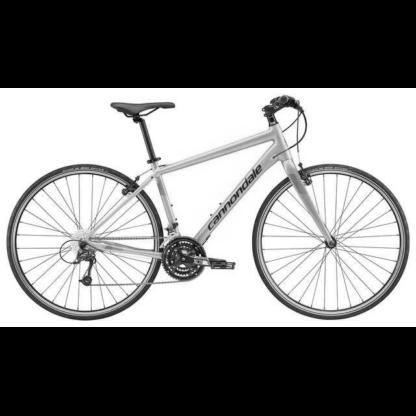Bicycle: (0, 85, 415, 324)
